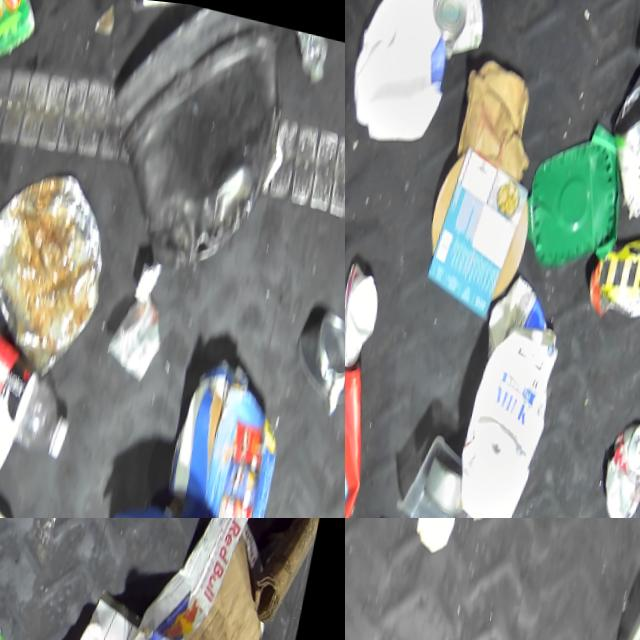can: (599, 52, 640, 220), (294, 293, 345, 397), (589, 222, 640, 312), (600, 408, 640, 518), (0, 0, 40, 70)
milk_jug: (461, 329, 559, 518), (345, 0, 465, 148), (401, 518, 535, 562)
non_white_jug: (89, 0, 303, 283), (345, 341, 389, 518)
plastic_bottle: (0, 322, 89, 457)
